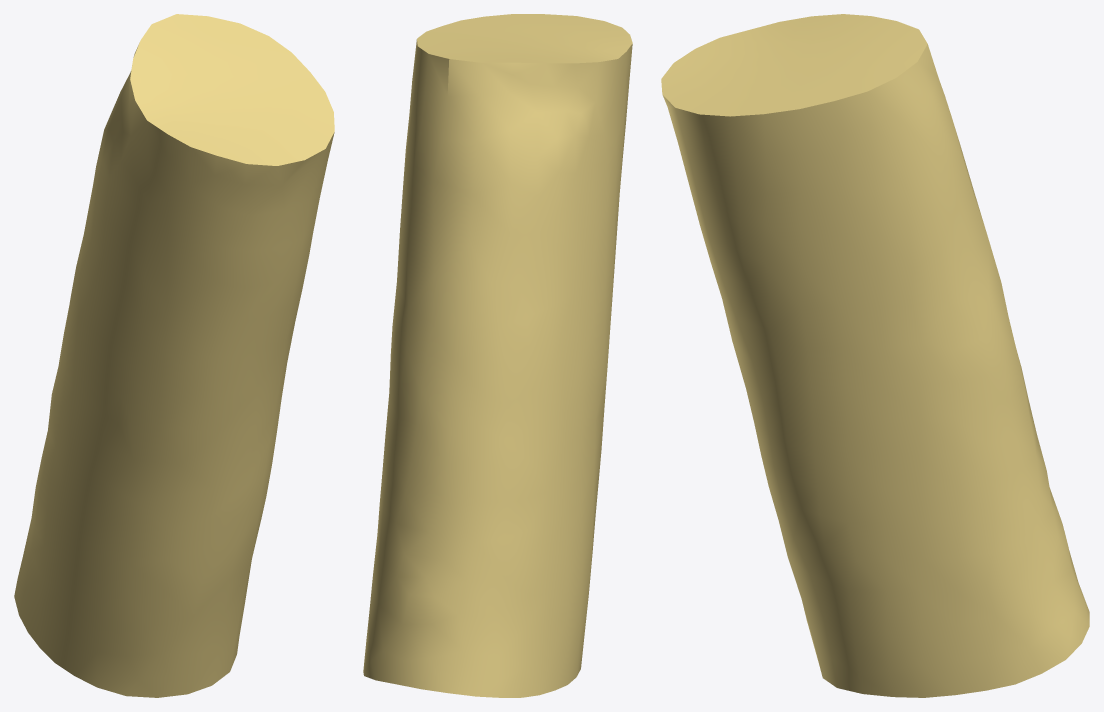
The model's file is fma327604-l_mm3411.glb.
The picture shows the model from 3 angles, left to right: view 1: azimuth 30°, elevation 25°; view 2: azimuth 150°, elevation 25°; view 3: azimuth 270°, elevation 25°; orthographic projection. The views are drawn at different scales.
Parts seen in each view (by area): view 1: FMA327604-L_MM3411; view 2: FMA327604-L_MM3411; view 3: FMA327604-L_MM3411.
Boxes of the visible parts, bbox=[...] form: FMA327604-L_MM3411: bbox=[14, 14, 334, 697]; FMA327604-L_MM3411: bbox=[363, 14, 632, 697]; FMA327604-L_MM3411: bbox=[661, 14, 1089, 697].
Size of the model in its own units: 0.00165 by 0.00514 by 0.0031.
